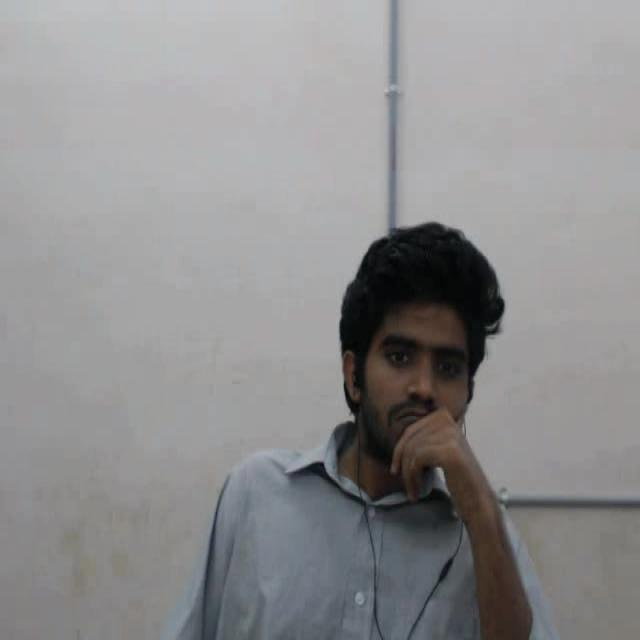Bored: (330, 194, 520, 493)
